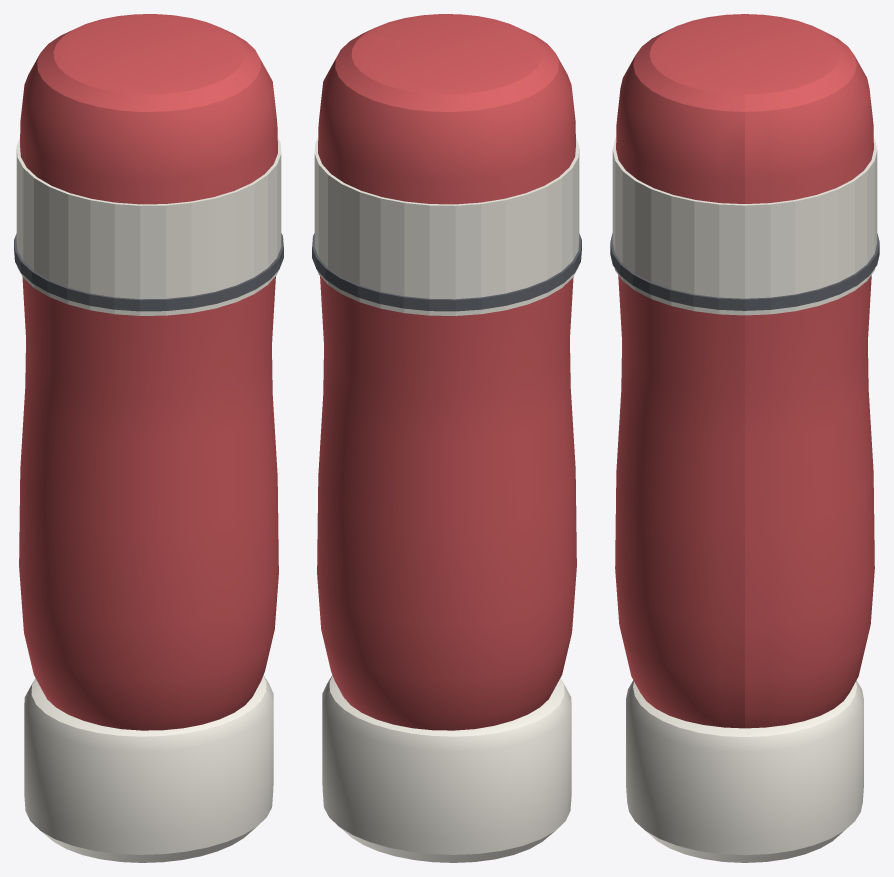
Rendered from fresh-produce-and-groceries-ketchup-bottle-f4d88235__24441.glb.
3 views of the same model, side by side, from view 1: azimuth 30°, elevation 25°; view 2: azimuth 150°, elevation 25°; view 3: azimuth 270°, elevation 25° (orthographic).
Parts seen in each view (by area): view 1: ketchup-bottle; view 2: ketchup-bottle; view 3: ketchup-bottle.
Boxes of the visible parts, x1,y1,x2,y2 form: ketchup-bottle: [14, 14, 283, 862]; ketchup-bottle: [312, 14, 581, 862]; ketchup-bottle: [610, 14, 879, 862].
Size of the model in its own units: 0.0656 by 0.2052 by 0.0656.
